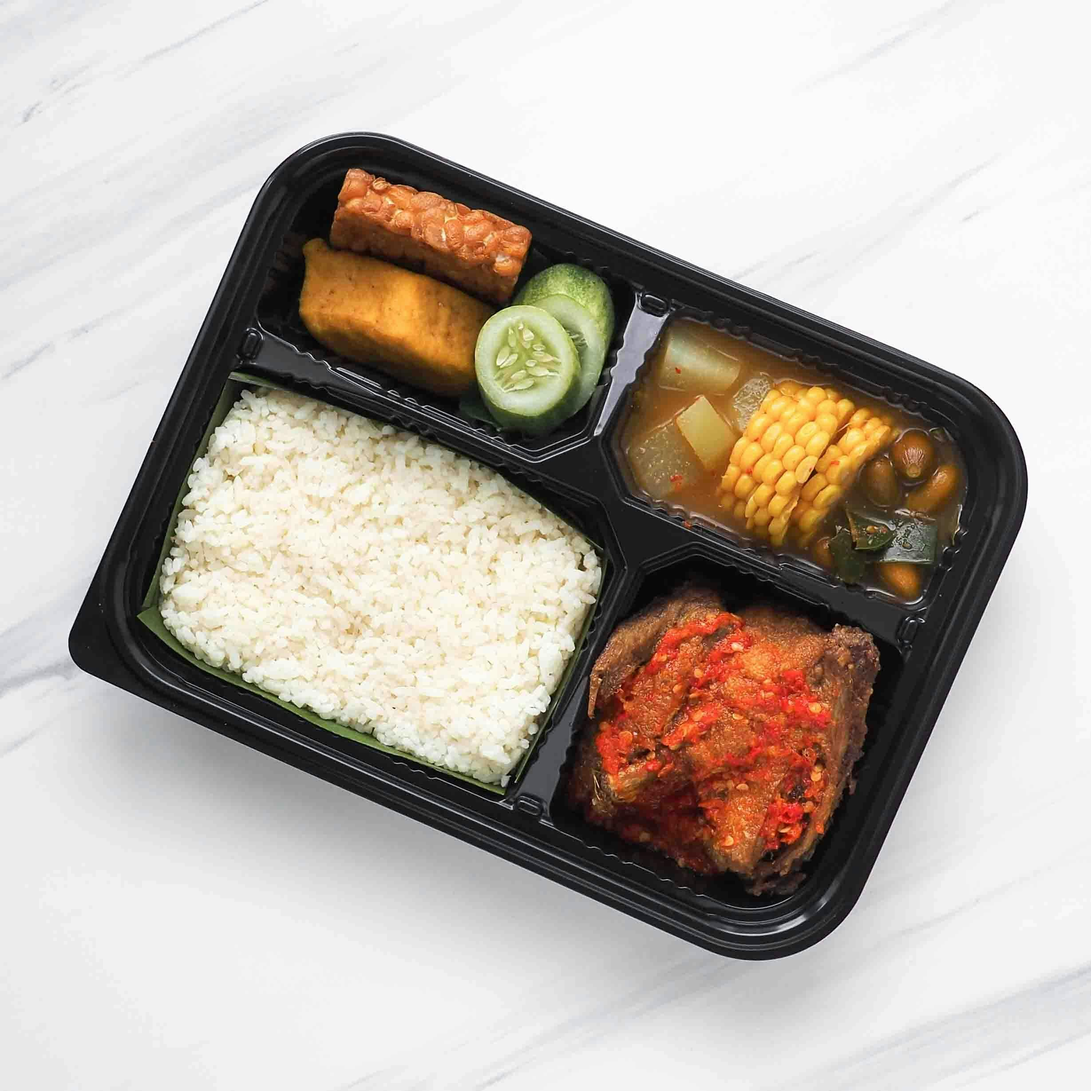buah_sayur_lainnya: (661, 394, 922, 505), (493, 312, 576, 404)
daging: (664, 633, 815, 830)
kacang_legume: (304, 273, 441, 349), (357, 198, 459, 249)
makanan_berpati: (234, 475, 515, 688)
